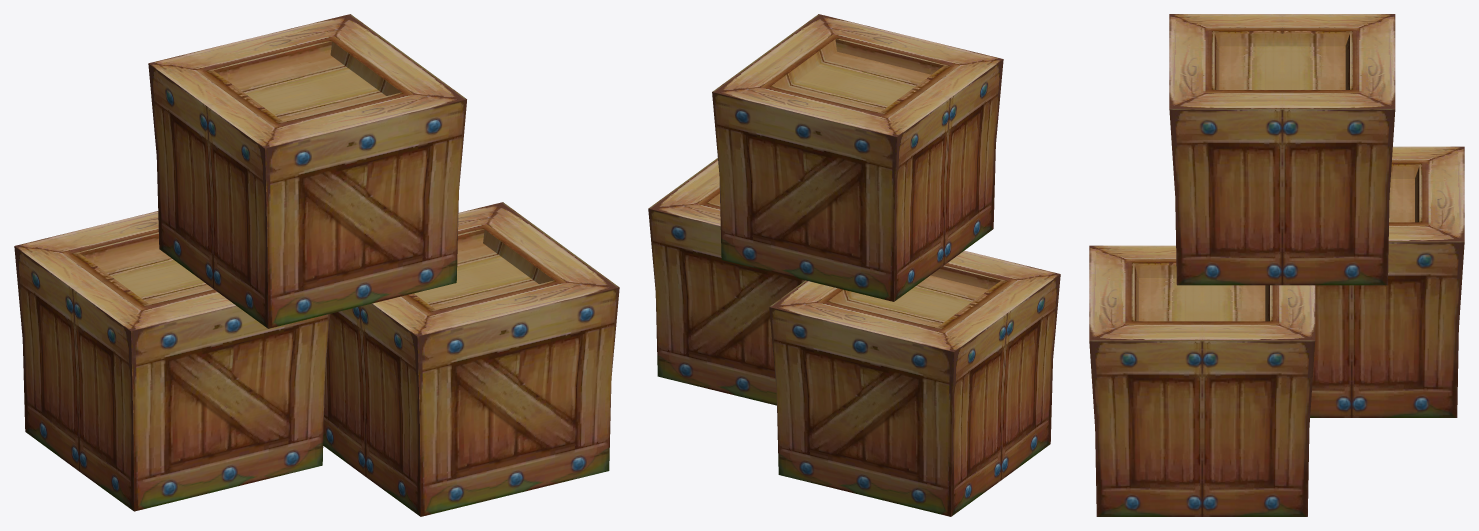
File: map_1001_czzj_35.FBX
3 renders of one model, left to right at view 1: azimuth 30°, elevation 25°; view 2: azimuth 150°, elevation 25°; view 3: azimuth 270°, elevation 25°, orthographic. The views are drawn at different scales.
Parts seen in each view (by area): view 1: map_1001_czzj_35; view 2: map_1001_czzj_35; view 3: map_1001_czzj_35.
Part boxes in pixels (bbox=[...]): map_1001_czzj_35: bbox=[14, 14, 619, 516]; map_1001_czzj_35: bbox=[648, 14, 1060, 516]; map_1001_czzj_35: bbox=[1089, 14, 1464, 516].
Size of the model in its own units: 1.01 by 0.8694 by 0.826.
